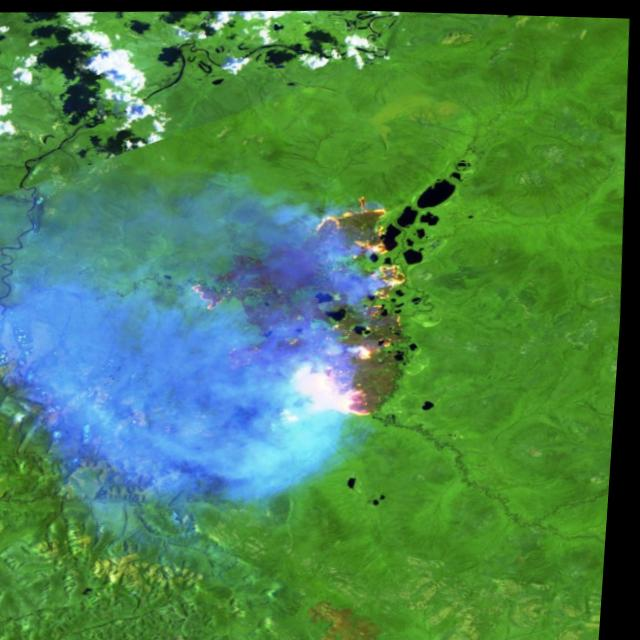fire: (183, 184, 427, 423)
